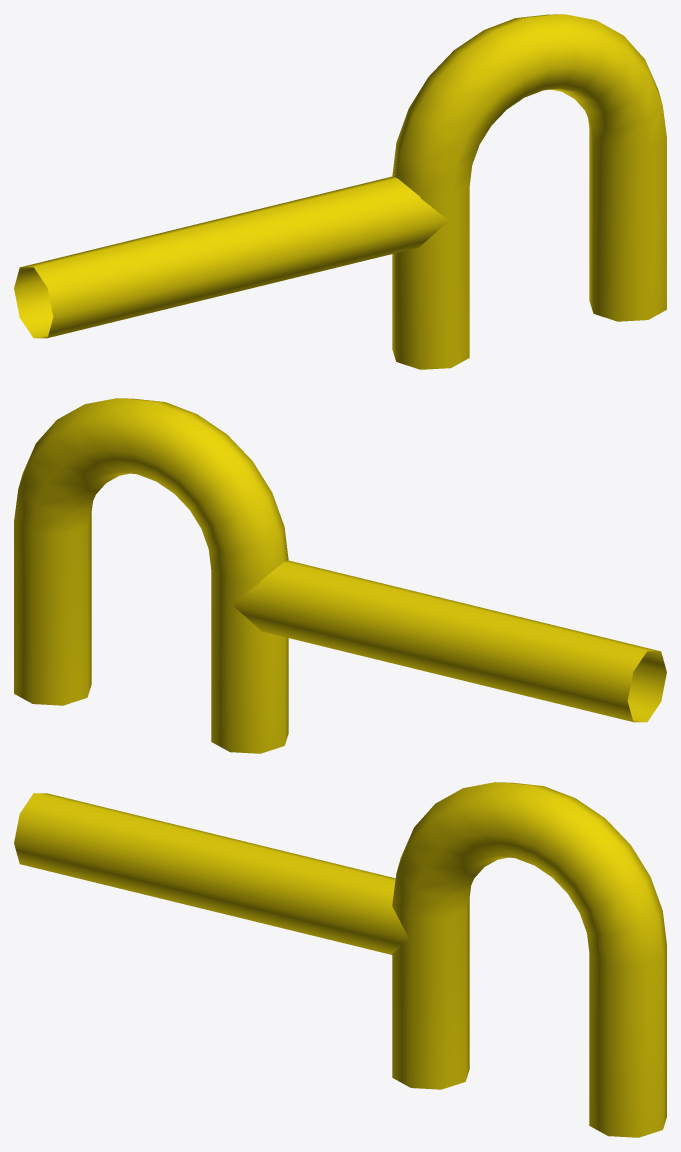
Rendered from lever1.fbx.
3 views of the same model, one above another, from view 1: azimuth 30°, elevation 25°; view 2: azimuth 150°, elevation 25°; view 3: azimuth 330°, elevation 25° (orthographic).
Parts seen in each view (by area): view 1: lever1; view 2: lever1; view 3: lever1.
Boxes of the visible parts, <box> form: lever1: <box>14,14,666,369</box>; lever1: <box>14,398,666,753</box>; lever1: <box>14,782,666,1137</box>.
Bounding box in the file's own units: 0.3829 × 0.1811 × 0.0423.
